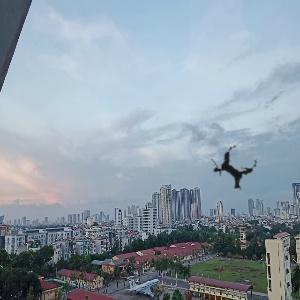drone: (191, 128, 274, 211)
